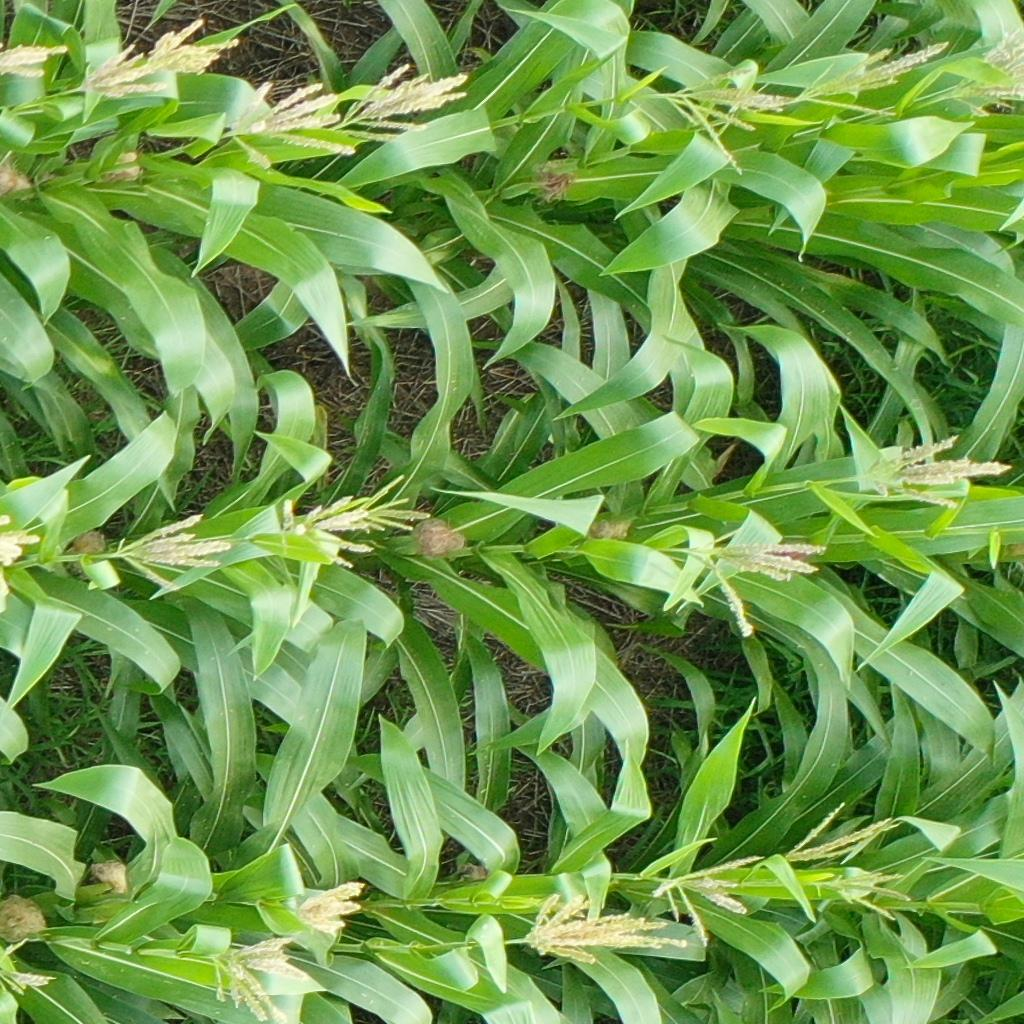Tassel: (689, 527, 827, 641), (664, 66, 786, 176), (799, 39, 951, 118), (229, 78, 356, 169), (528, 895, 687, 964), (339, 62, 469, 143), (868, 435, 1015, 506), (657, 859, 765, 948), (114, 512, 229, 589), (212, 933, 297, 1024), (278, 496, 376, 573), (783, 802, 893, 866), (951, 21, 1024, 115), (150, 21, 239, 75), (84, 43, 166, 100), (825, 871, 914, 923), (358, 474, 433, 533), (291, 878, 365, 937), (1, 938, 58, 996), (1, 42, 70, 83), (1, 512, 39, 567)
